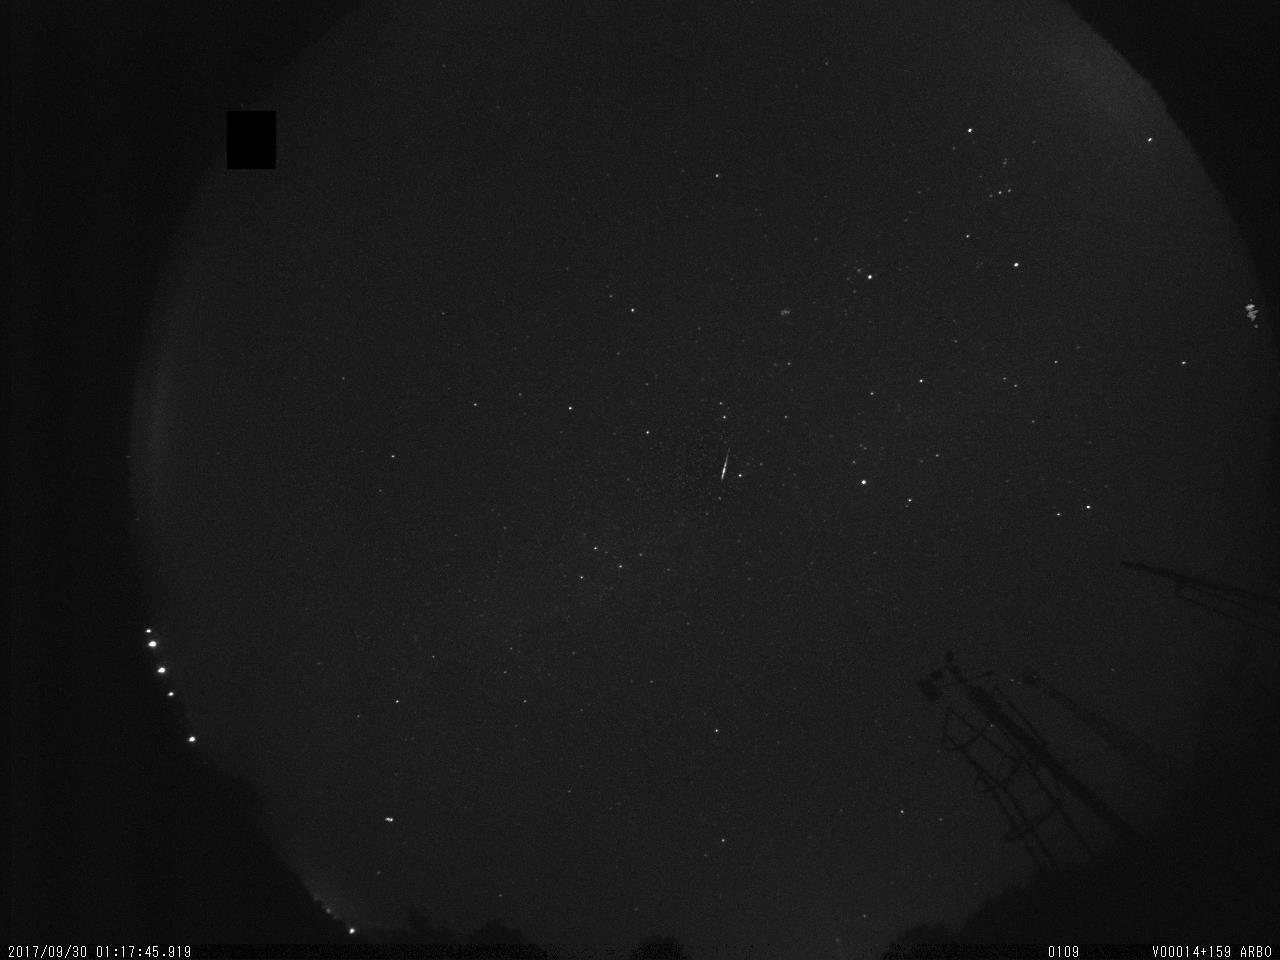TLE: (1231, 290, 1268, 343)
